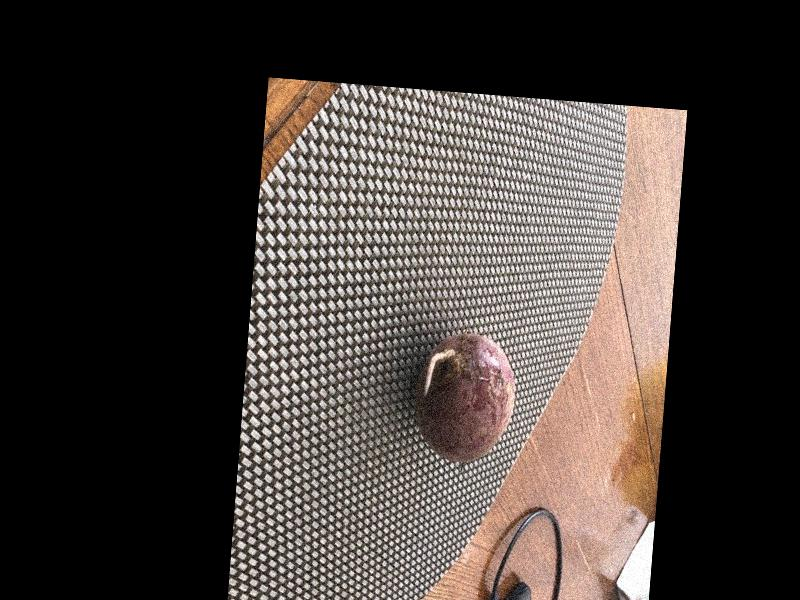Beet: (411, 330, 518, 466)
